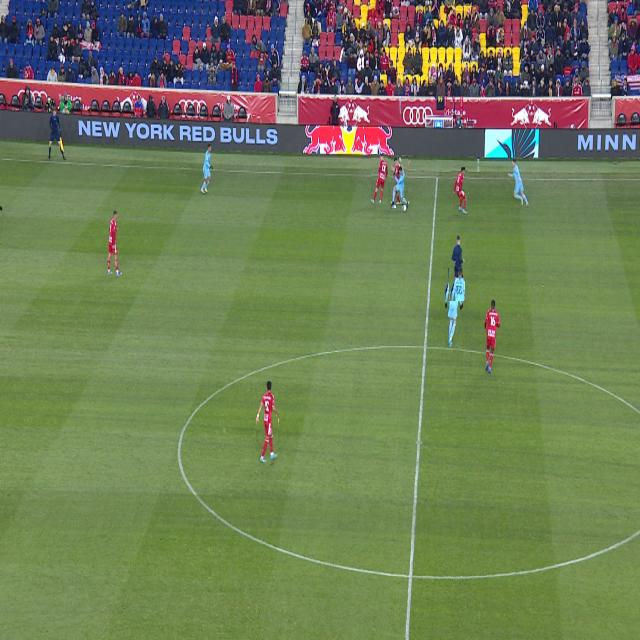football: (402, 205, 407, 212)
player: (257, 382, 278, 463), (446, 268, 462, 348), (485, 300, 500, 374), (107, 210, 123, 277), (508, 157, 529, 207), (391, 155, 408, 208), (371, 155, 388, 206), (454, 167, 468, 215), (201, 144, 213, 194), (398, 157, 410, 180), (397, 192, 404, 205), (406, 199, 410, 204), (448, 293, 450, 302), (402, 181, 404, 186), (451, 277, 451, 279)
referee: (449, 236, 465, 301)
